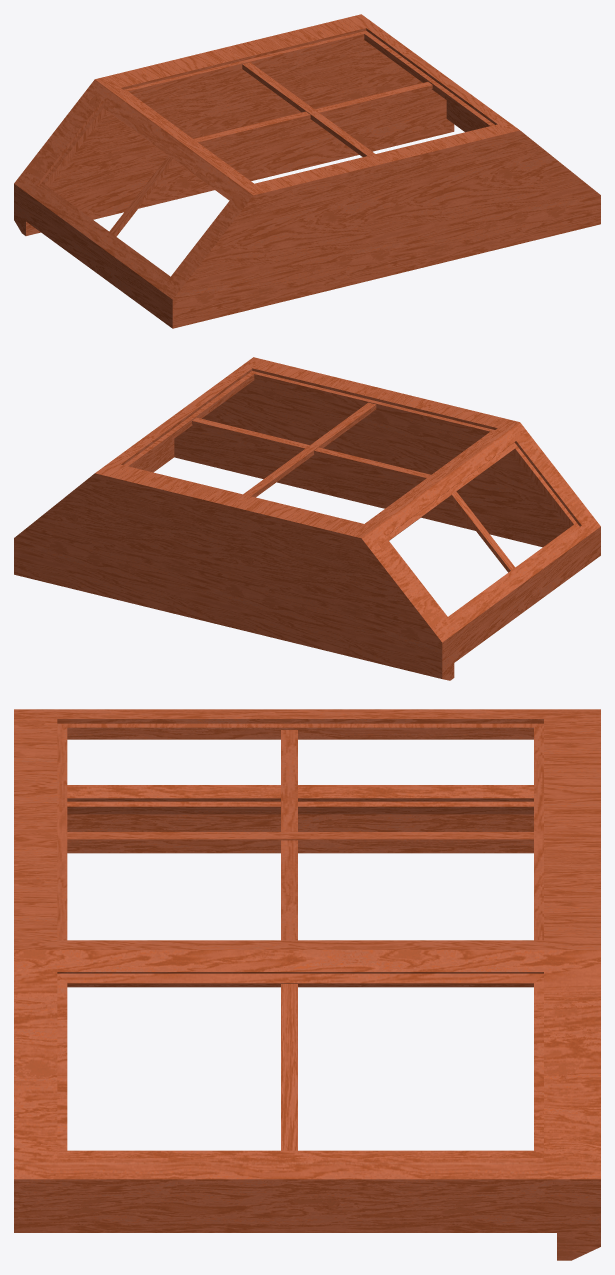
The model's file is MeshWindowBay_2_0_GeomSubset_0.obj.
3 views of the same model, one above another, from view 1: azimuth 30°, elevation 25°; view 2: azimuth 150°, elevation 25°; view 3: azimuth 270°, elevation 25° (orthographic). The views are drawn at different scales.
Parts seen in each view (by area): view 1: MeshWindowBay_2_0_GeomSubset_0; view 2: MeshWindowBay_2_0_GeomSubset_0; view 3: MeshWindowBay_2_0_GeomSubset_0.
Boxes of the visible parts, <box> form: MeshWindowBay_2_0_GeomSubset_0: <box>14,14,600,328</box>; MeshWindowBay_2_0_GeomSubset_0: <box>14,357,600,680</box>; MeshWindowBay_2_0_GeomSubset_0: <box>14,709,600,1260</box>.
Size of the model in its own units: 1.75 by 0.5009 by 1.12.
Materials: 1 (1 with a texture image).
